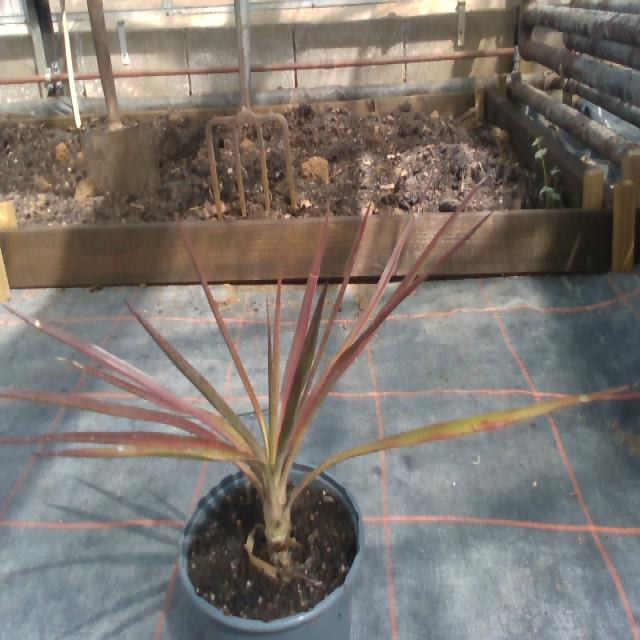Yucca-aloifolia: (287, 212, 492, 461), (287, 387, 628, 507), (8, 308, 257, 451), (178, 219, 265, 444), (133, 312, 248, 433), (382, 183, 479, 311), (304, 207, 370, 393), (0, 389, 215, 440), (340, 219, 414, 349), (280, 223, 327, 425), (282, 283, 327, 440), (70, 360, 187, 416), (0, 432, 213, 449), (38, 445, 247, 460), (267, 276, 279, 463)
